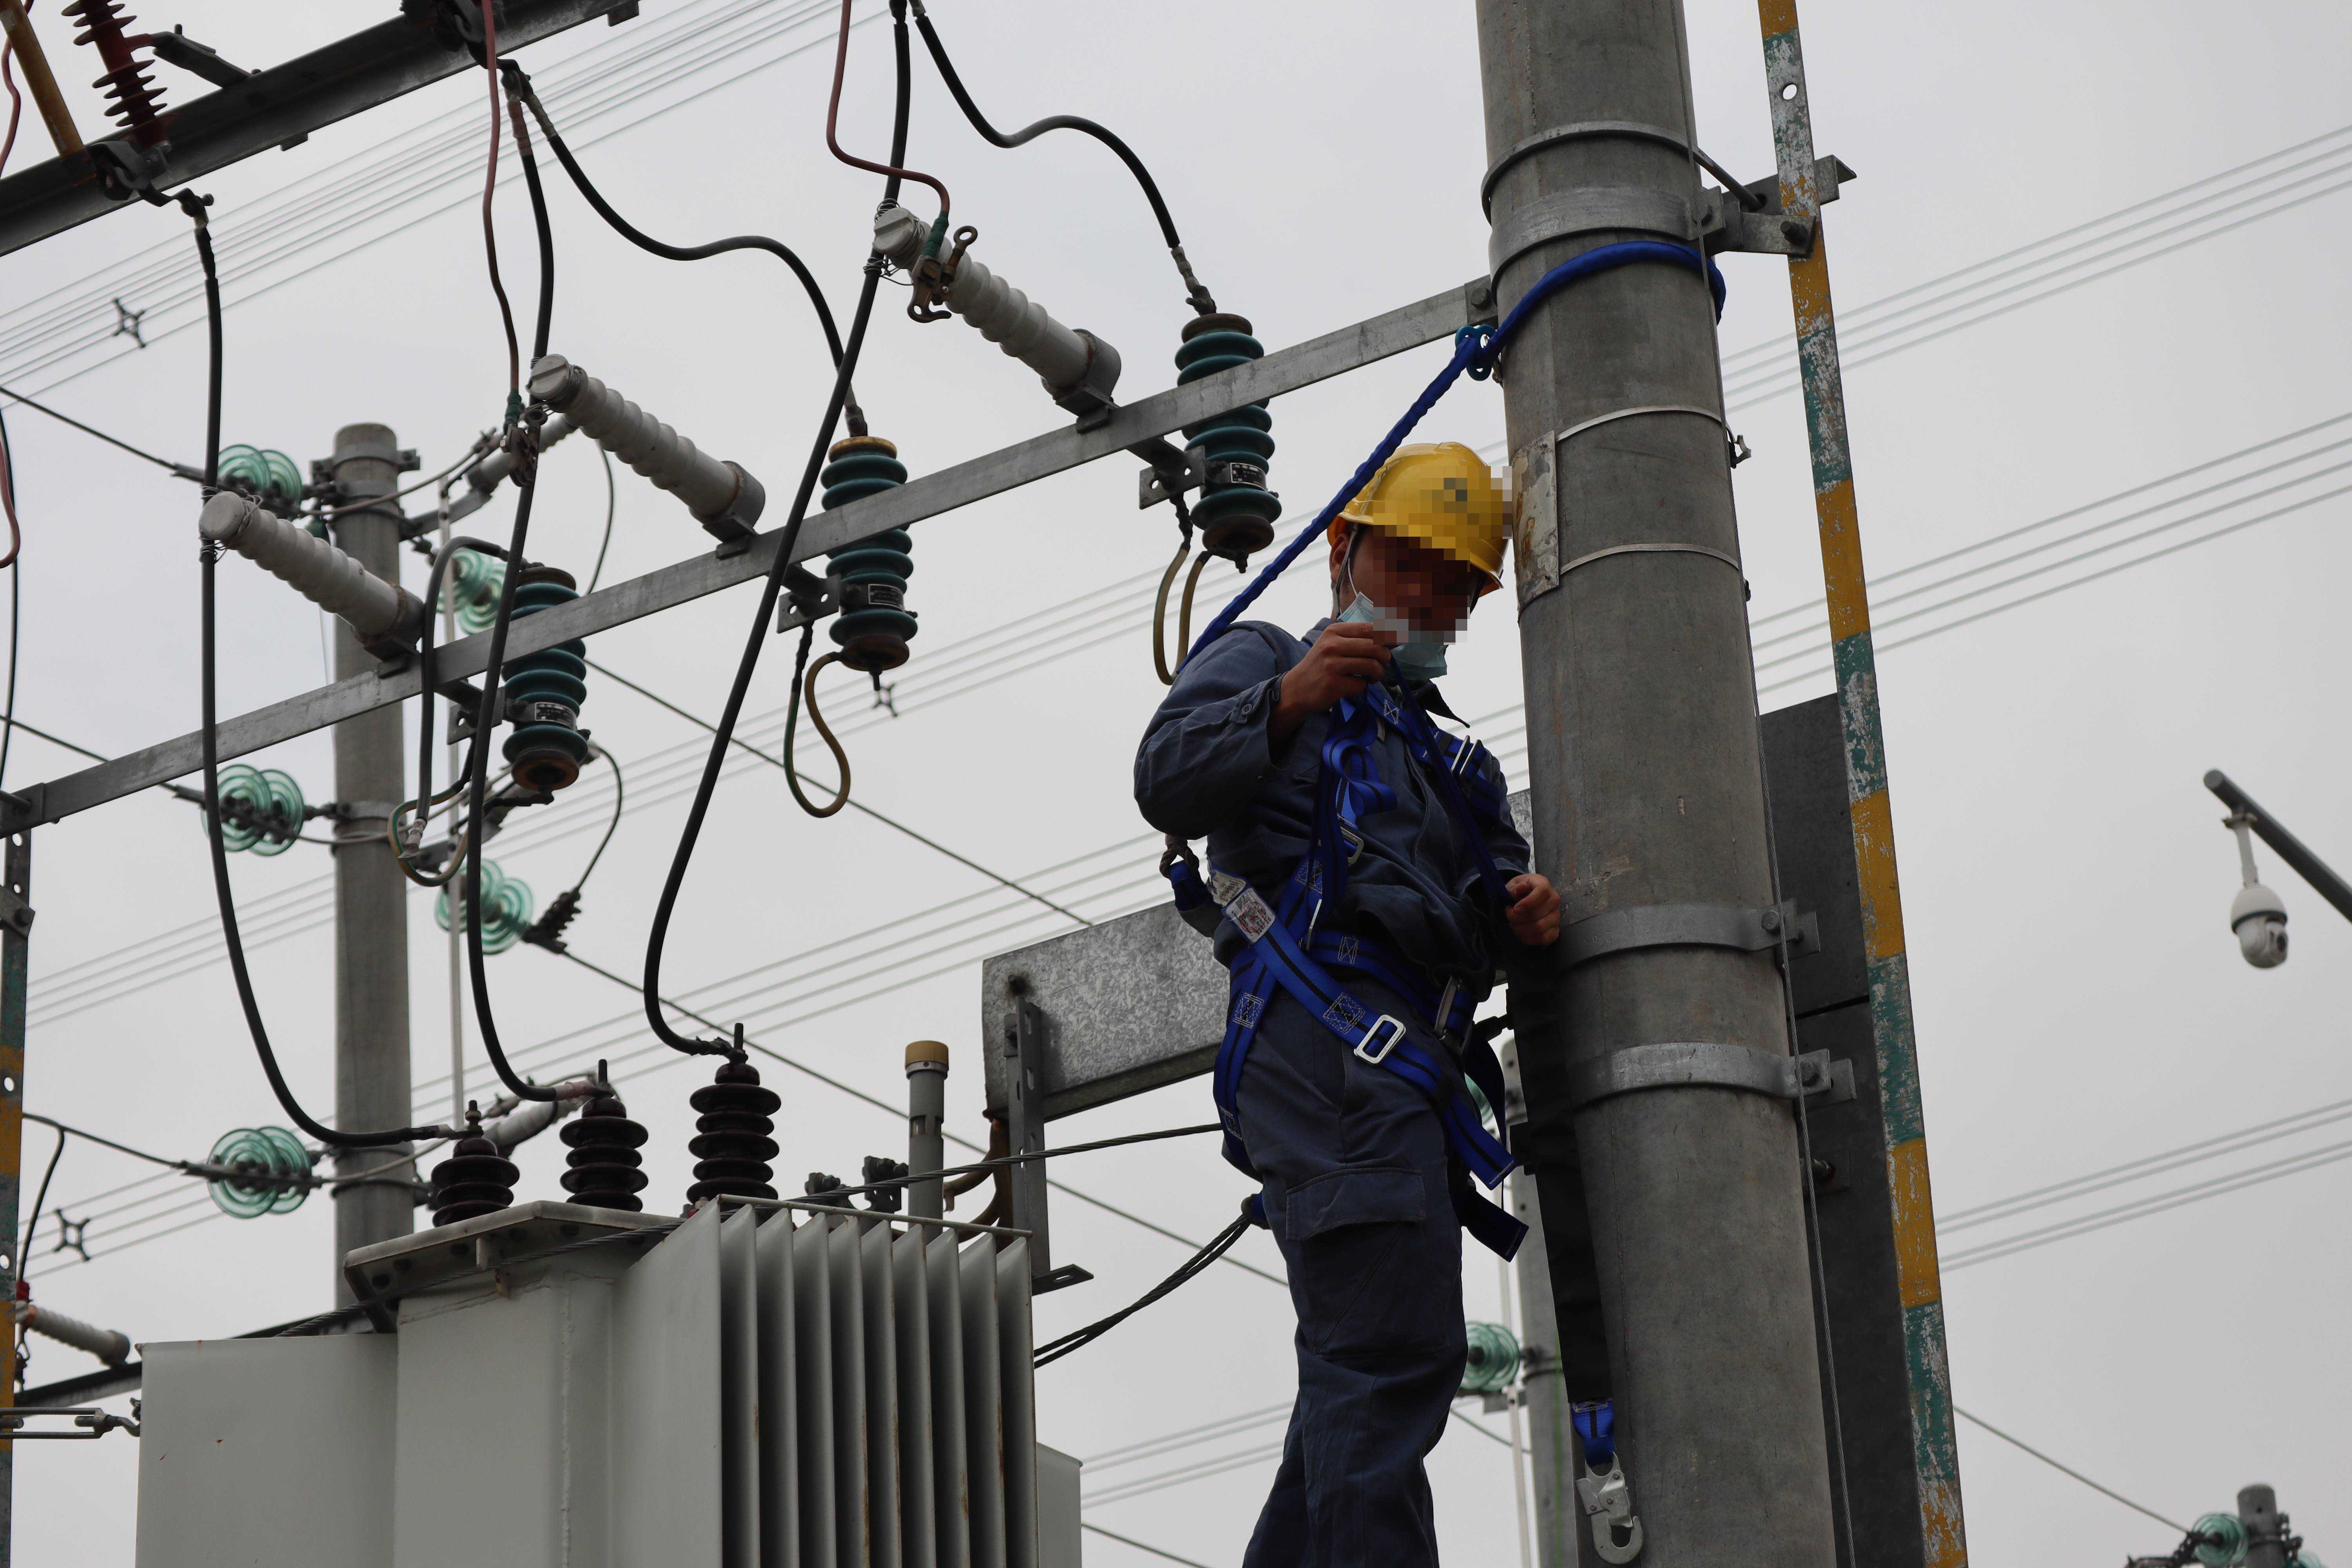downsuit: (1227, 1017, 1491, 1568)
upsuit: (1167, 641, 1514, 1003)
